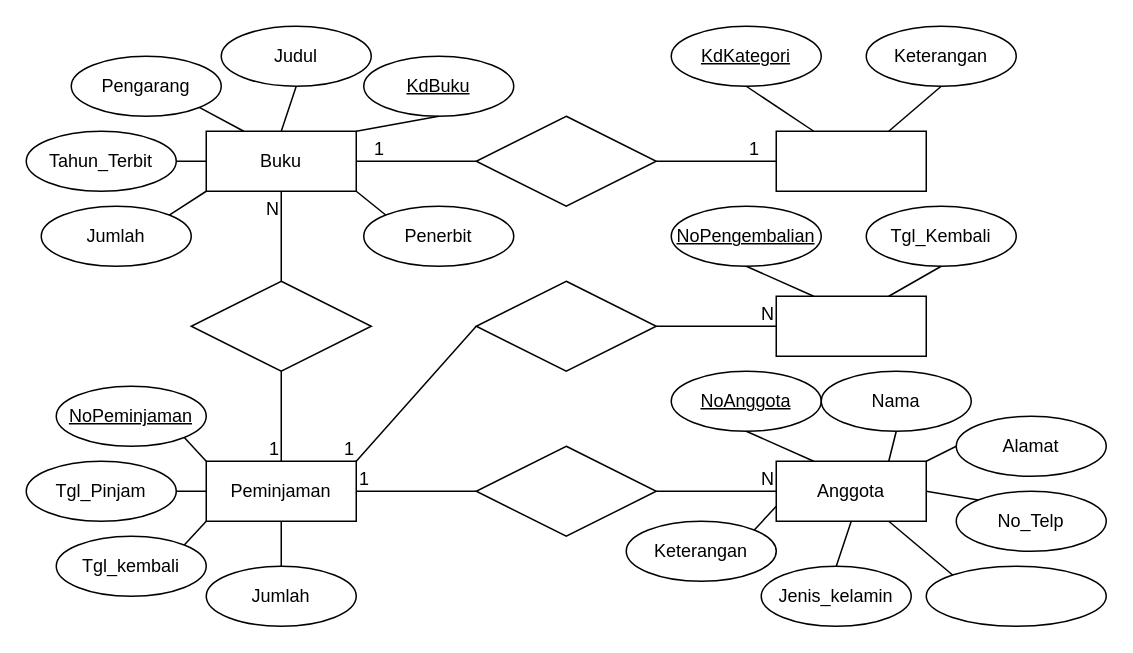
Image size: 1133x653. Some labels were removed from this diagram. The box of each missing label's shape, as (x1, y1, x2, y2) in pixels:
Kategori_Buku: (775, 130, 926, 191)
Melakukan: (475, 280, 656, 371)
Memiliki: (475, 115, 656, 206)
Meminjam: (475, 445, 656, 536)
Mencatat: (190, 280, 371, 371)
No_KTP/No_siswa: (925, 565, 1106, 626)
Pengembalian: (775, 295, 926, 356)
